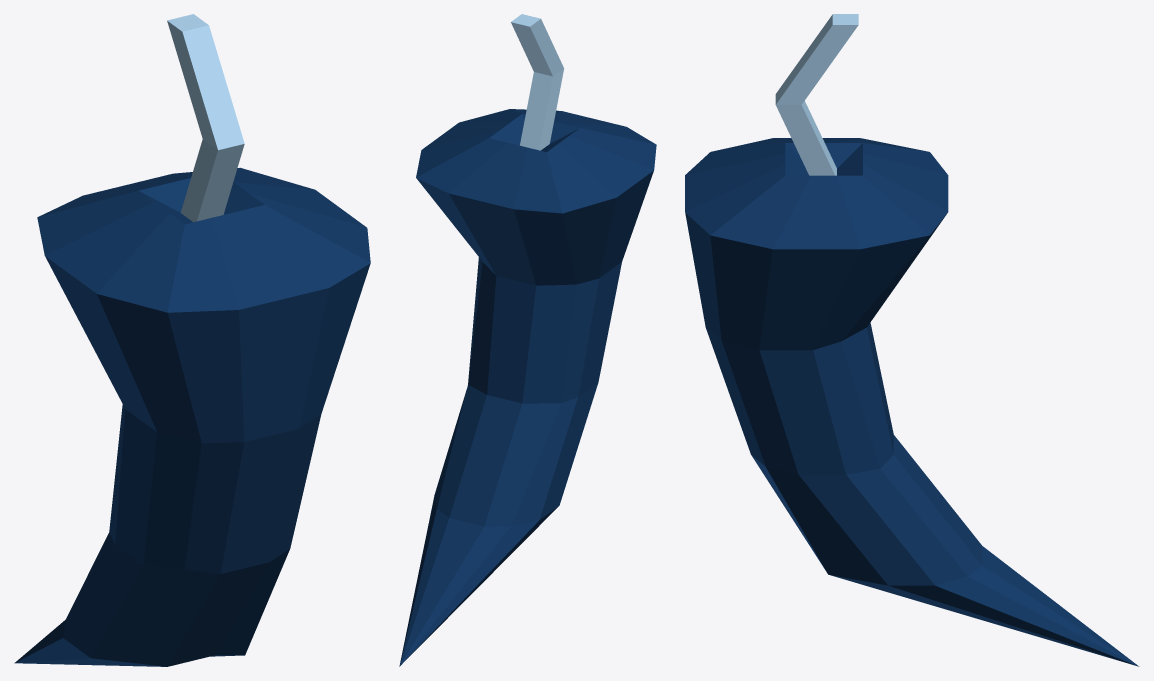
File: IcePepperCrop.fbx
3 renders of one model, left to right at view 1: azimuth 30°, elevation 25°; view 2: azimuth 150°, elevation 25°; view 3: azimuth 270°, elevation 25°, orthographic. The views are drawn at different scales.
Visible parts, largest first — view 1: Cube; view 2: Cube; view 3: Cube.
Boxes of the visible parts, x1,y1,x2,y2 form: Cube: [14, 14, 370, 666]; Cube: [399, 14, 656, 666]; Cube: [685, 14, 1139, 666].
Size of the model in its own units: 36.85 by 100 by 63.69.
